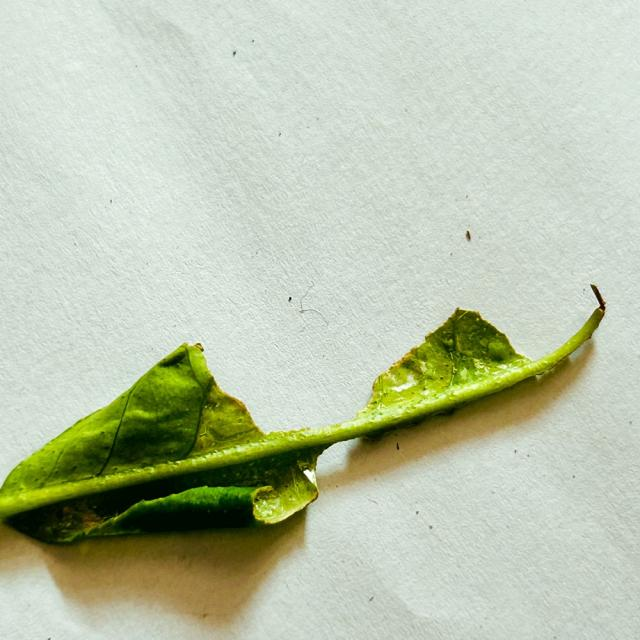Deficiency Leaf: (312, 356, 570, 493), (206, 308, 450, 436), (464, 285, 596, 355)
Lemon: (0, 285, 605, 543)
